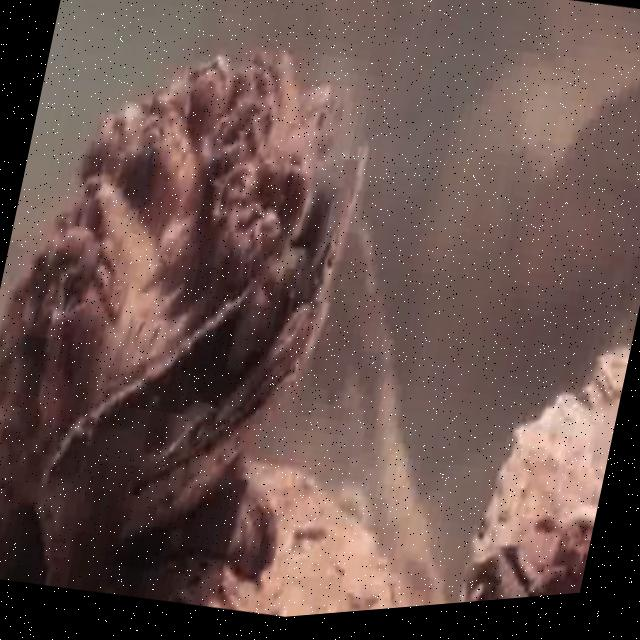Oyster-Indeterminate: (141, 457, 402, 617), (480, 397, 620, 597), (121, 469, 279, 571), (594, 341, 631, 410)
Oyster-Open: (0, 53, 365, 538), (462, 556, 526, 602)
